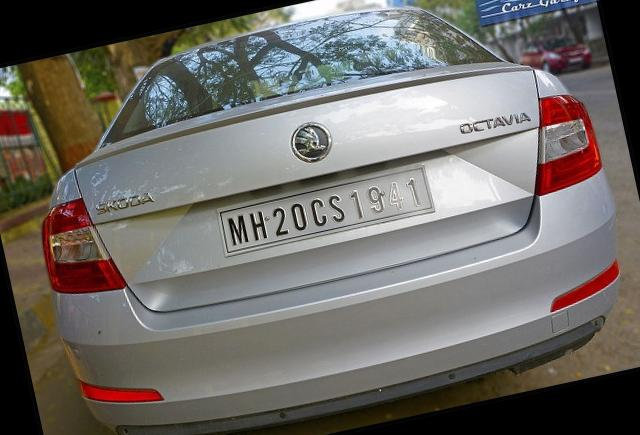plate: (210, 162, 439, 260)
